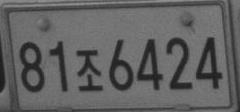1: (49, 40, 73, 93)
2: (164, 36, 193, 89)
4: (194, 36, 223, 90), (136, 38, 163, 91)
6: (107, 38, 134, 91)
8: (18, 40, 45, 93)
조: (76, 48, 103, 91)
